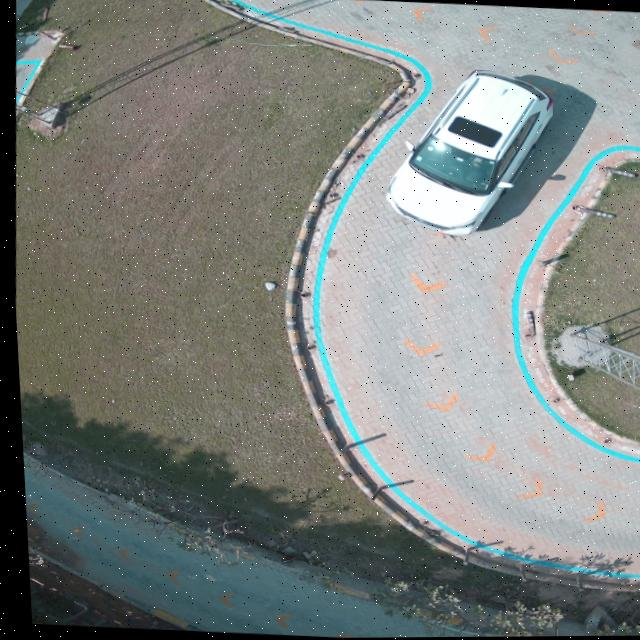car: (384, 70, 552, 235)
